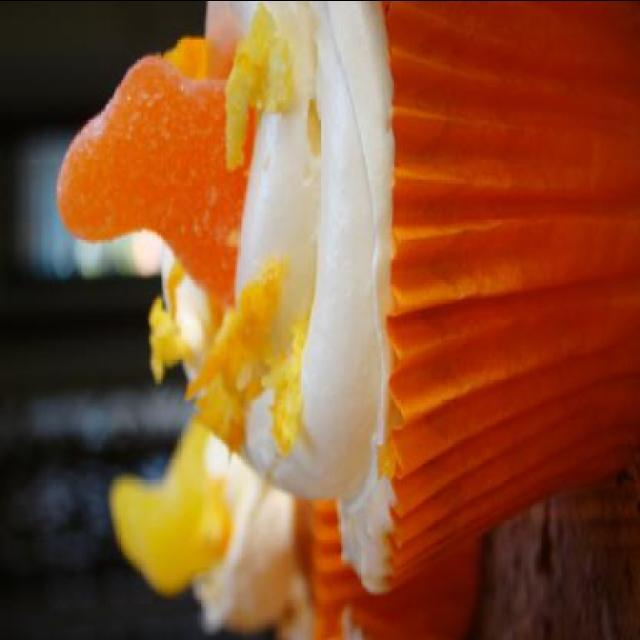Candy: (44, 54, 253, 318), (108, 423, 220, 595)
